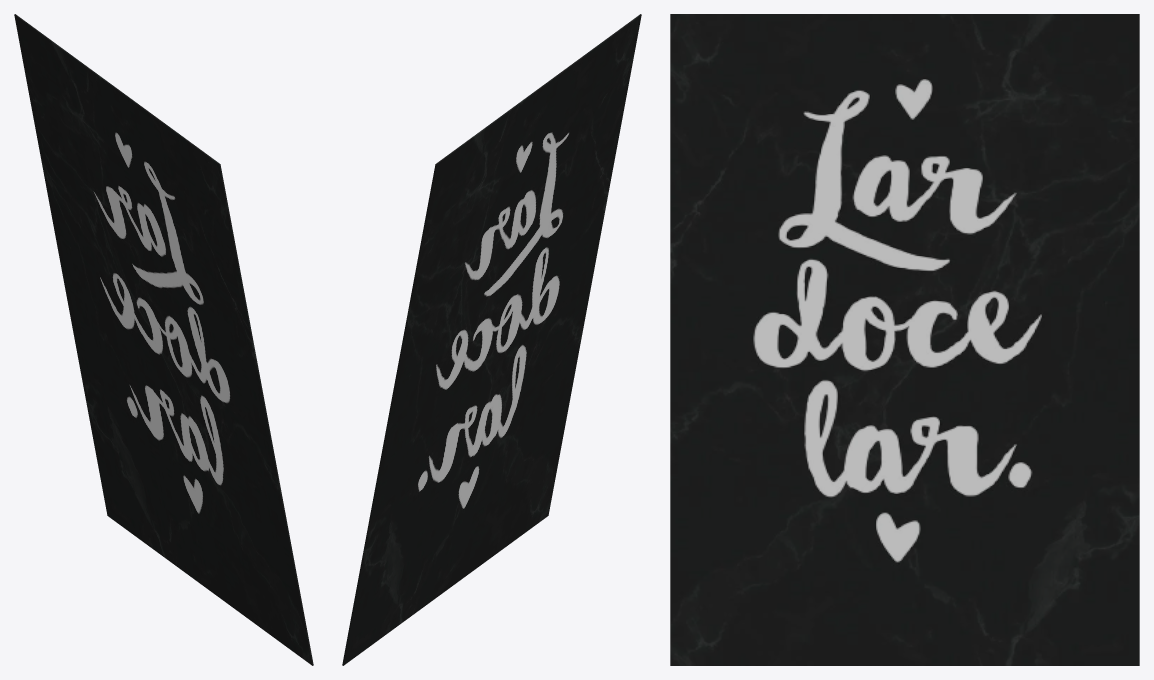
File: Picture2.fbx
3 renders of one model, left to right at view 1: azimuth 30°, elevation 25°; view 2: azimuth 150°, elevation 25°; view 3: azimuth 270°, elevation 25°, orthographic. The views are drawn at different scales.
Visible parts, largest first — view 1: Cylinder.001; view 2: Cylinder.001; view 3: Cylinder.001.
Part boxes in pixels (bbox=[...]): Cylinder.001: bbox=[14, 14, 313, 665]; Cylinder.001: bbox=[342, 14, 641, 665]; Cylinder.001: bbox=[670, 14, 1139, 665].
Size of the model in its own units: 20.24 by 107 by 76.19.
